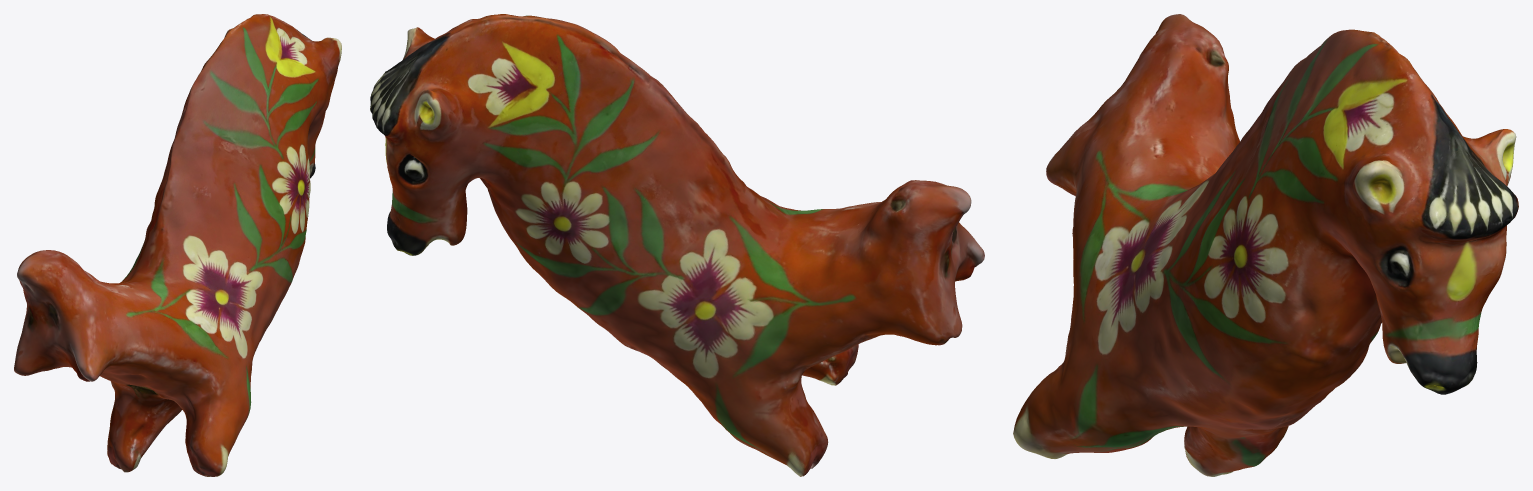
3 renders of one model, left to right at view 1: azimuth 30°, elevation 25°; view 2: azimuth 150°, elevation 25°; view 3: azimuth 270°, elevation 25°, orthographic. The views are drawn at different scales.
Size of the model in its own units: 0.8654 by 0.7677 by 0.6261.
Materials: 1 (1 with a texture image).
